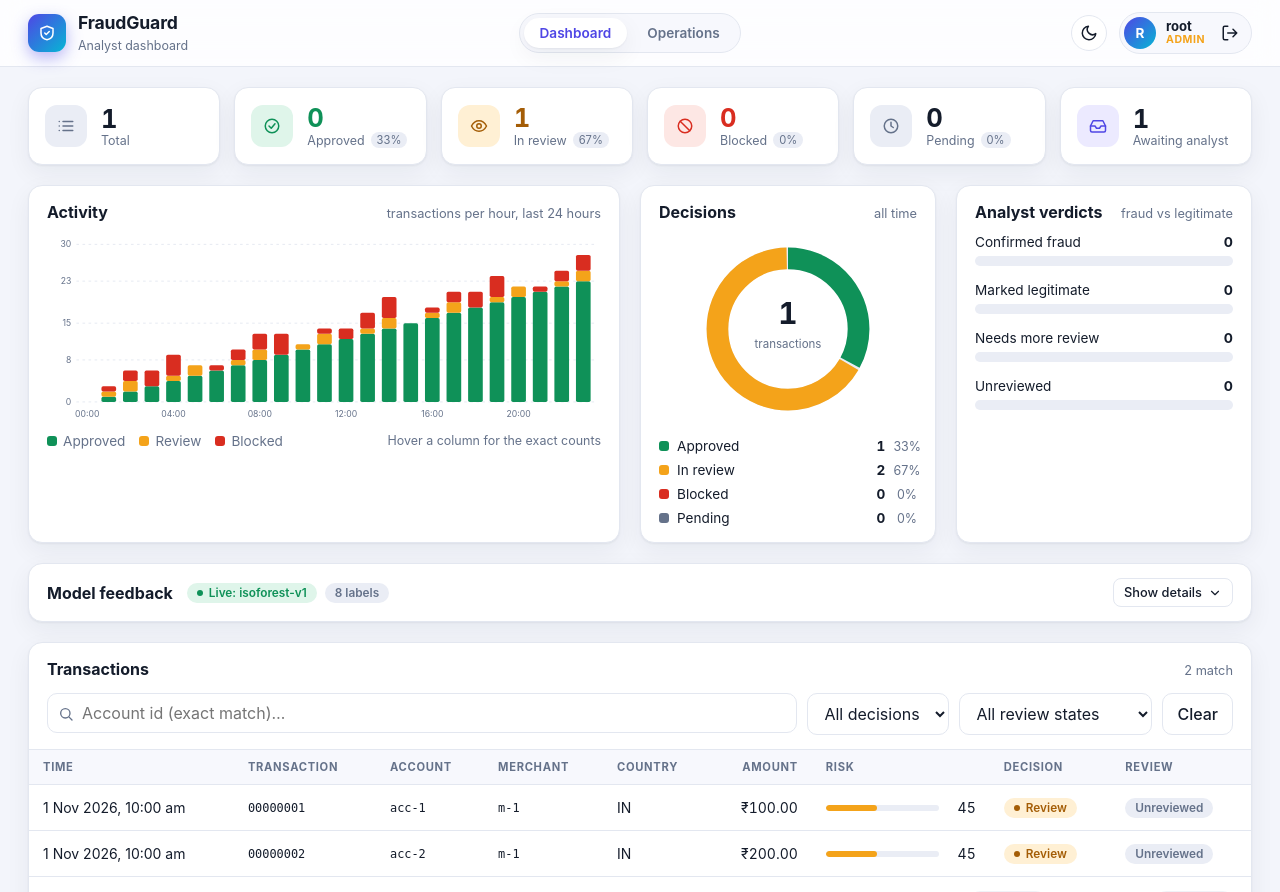
system status › flags a down dependency, an open ML circuit and stuck transactions
Click the button "Operations" at [683, 33], box [631, 18, 736, 48]
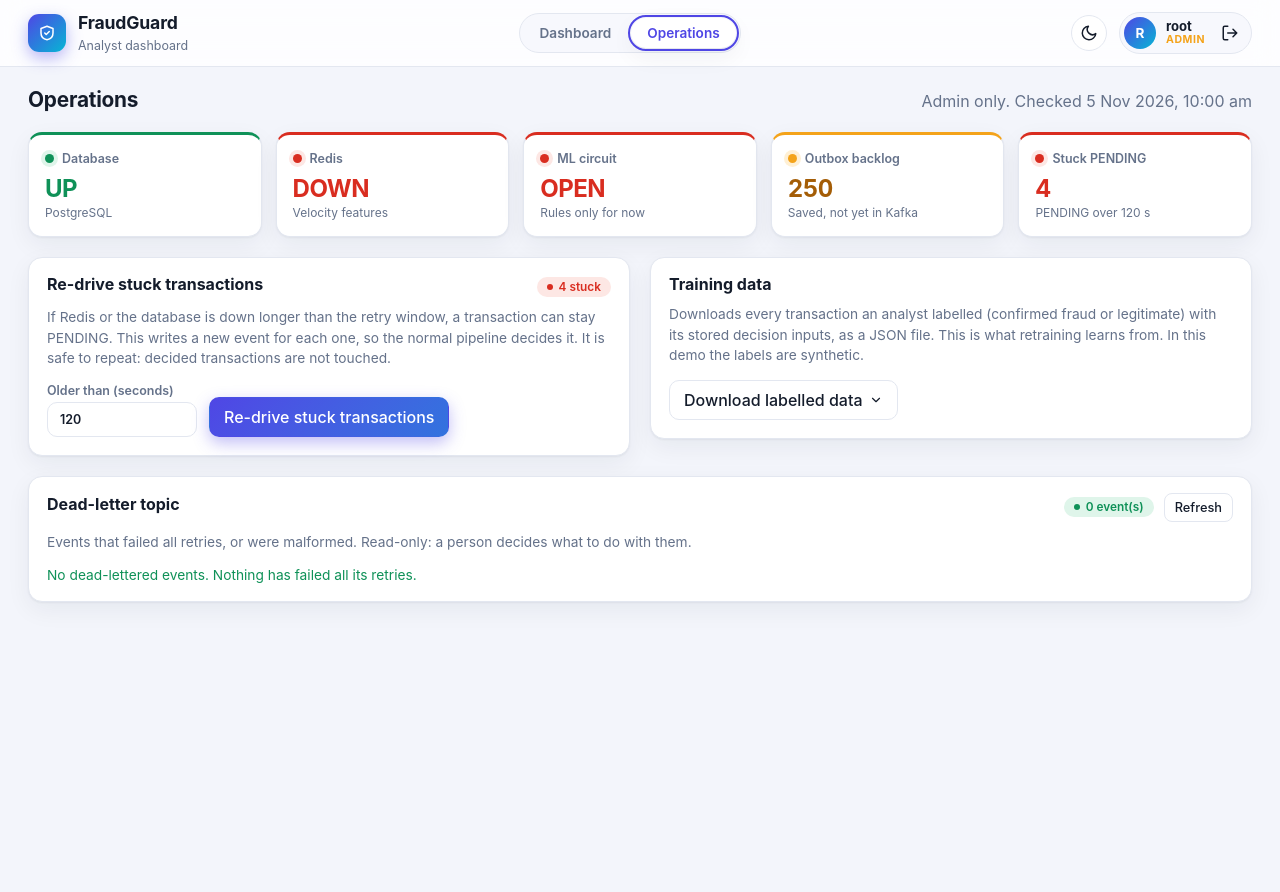
Check: the text "DOWN" is shown, box [293, 174, 369, 203]
Check: the text "OPEN" is shown, box [540, 174, 605, 203]
Check: the text "Rules only for now" is shown, box [540, 205, 645, 220]
